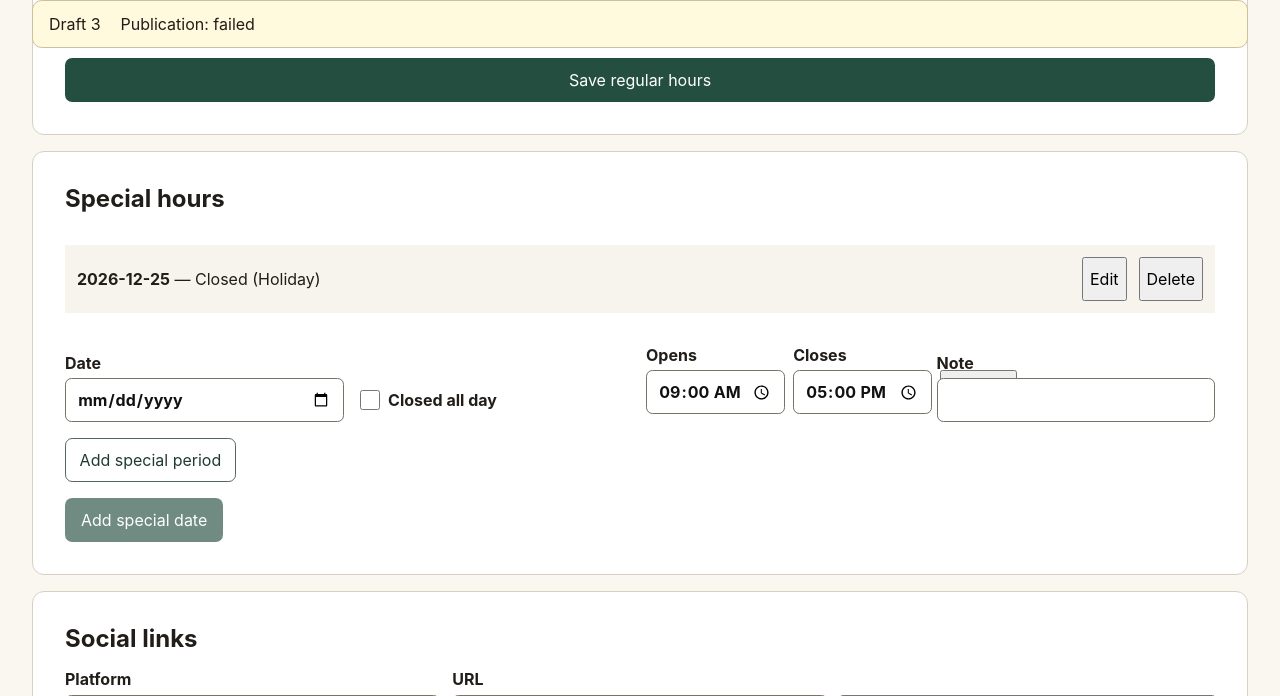
RestaurantEditor › maps special-hour errors inline and focuses the interval group while preserving values
This screenshot has width=1280, height=696.
(page scrolled)
Step 1. Type "2026-12-31" into the date field labelled "Date" → (204,400), box [65,378,344,422]
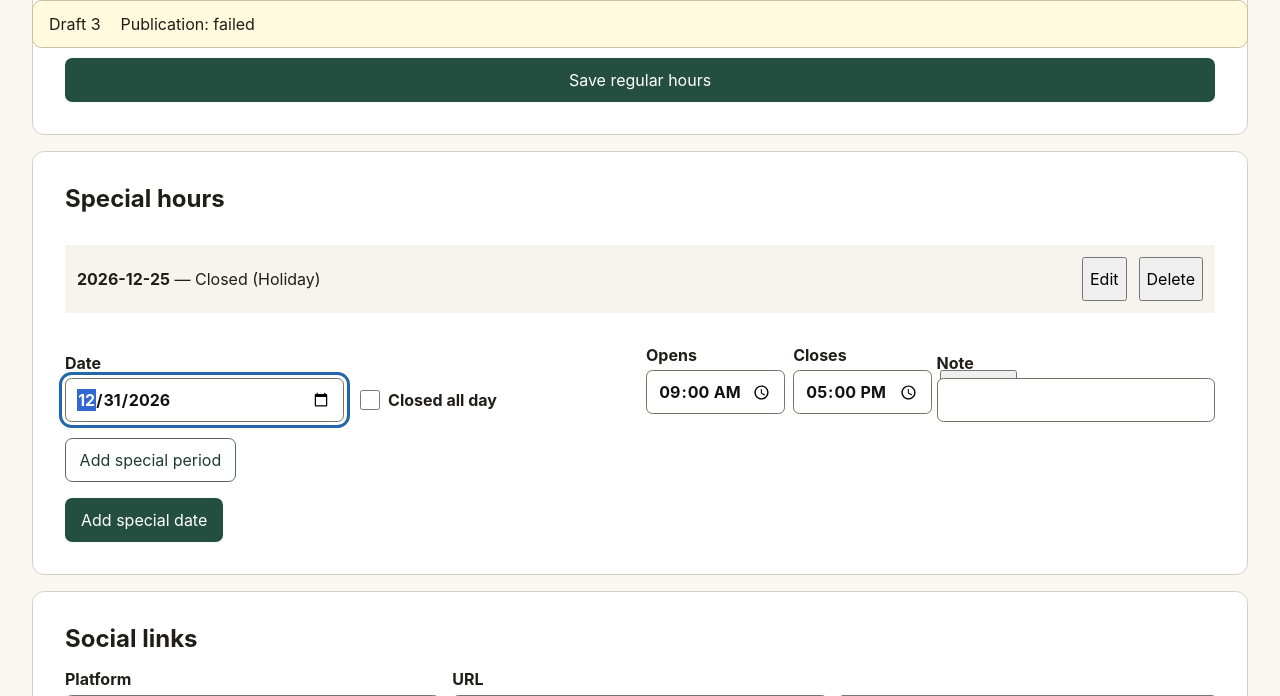
Step 2. Clear the time field labelled "Opens" → (716,392), box [646,370,785,414]
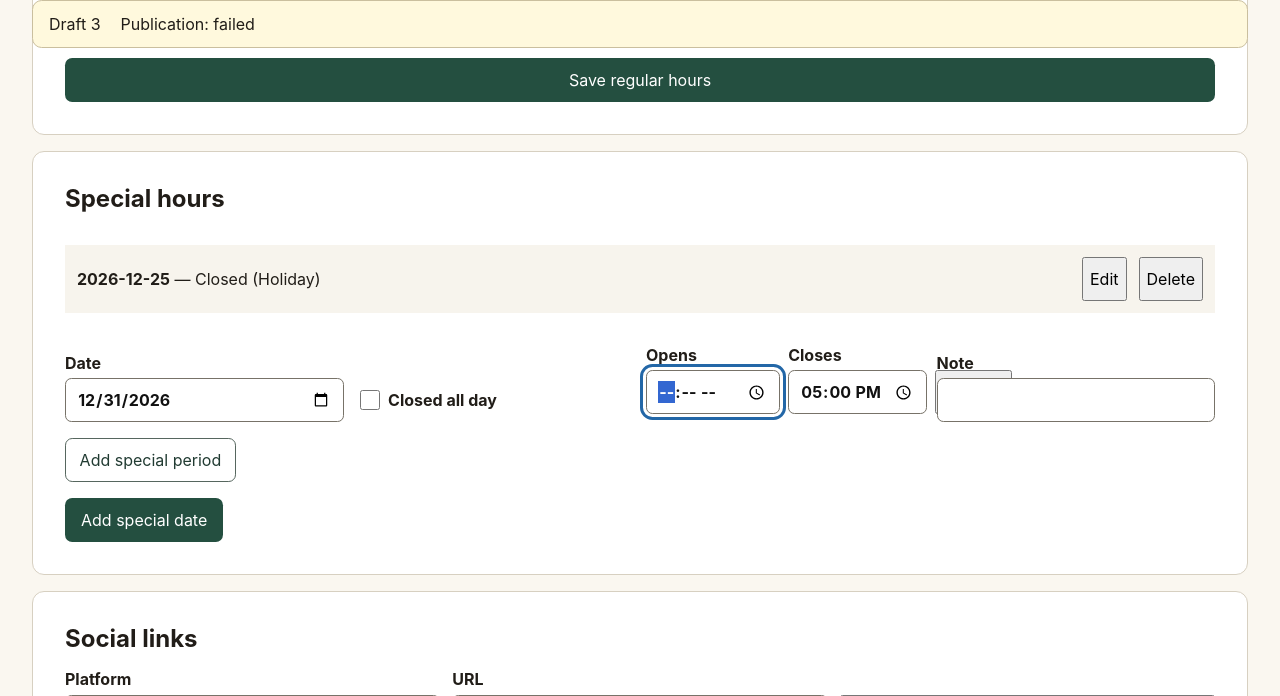
Step 3. Type "11:00" into the time field labelled "Opens" → (713,392), box [646,370,780,414]
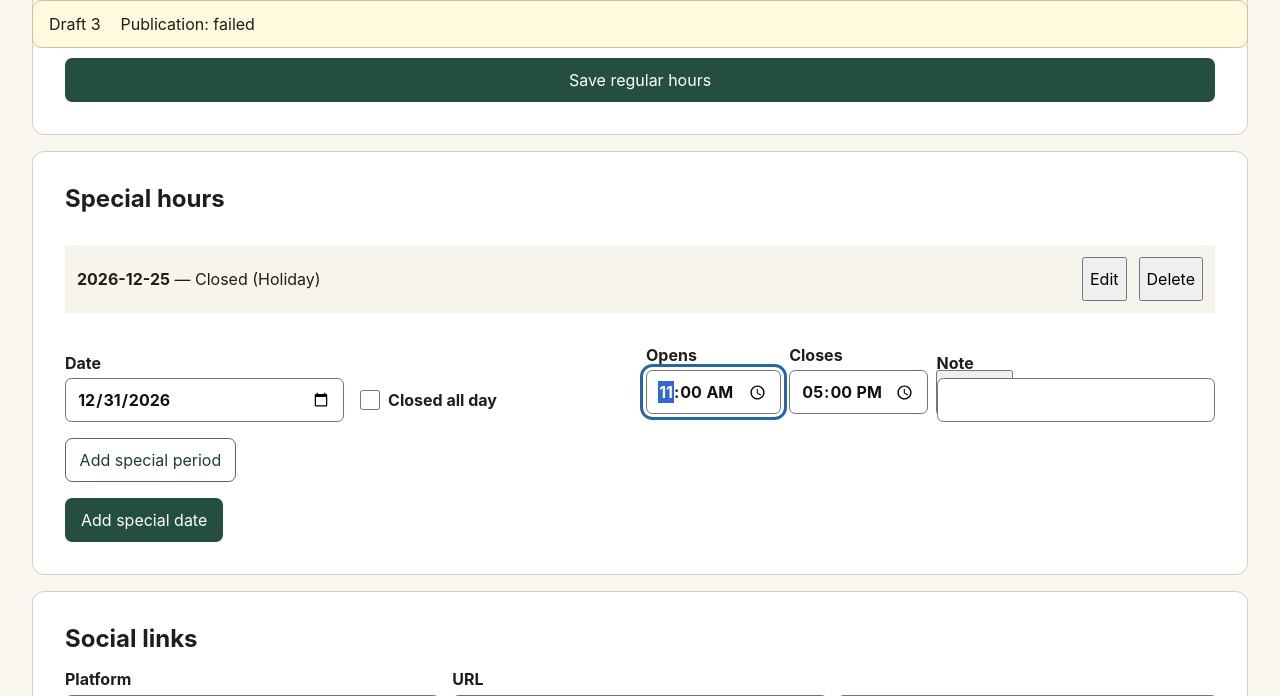
Step 4. Click the button "Add special date" → (144,520), box [65,498,223,542]
(page scrolled)
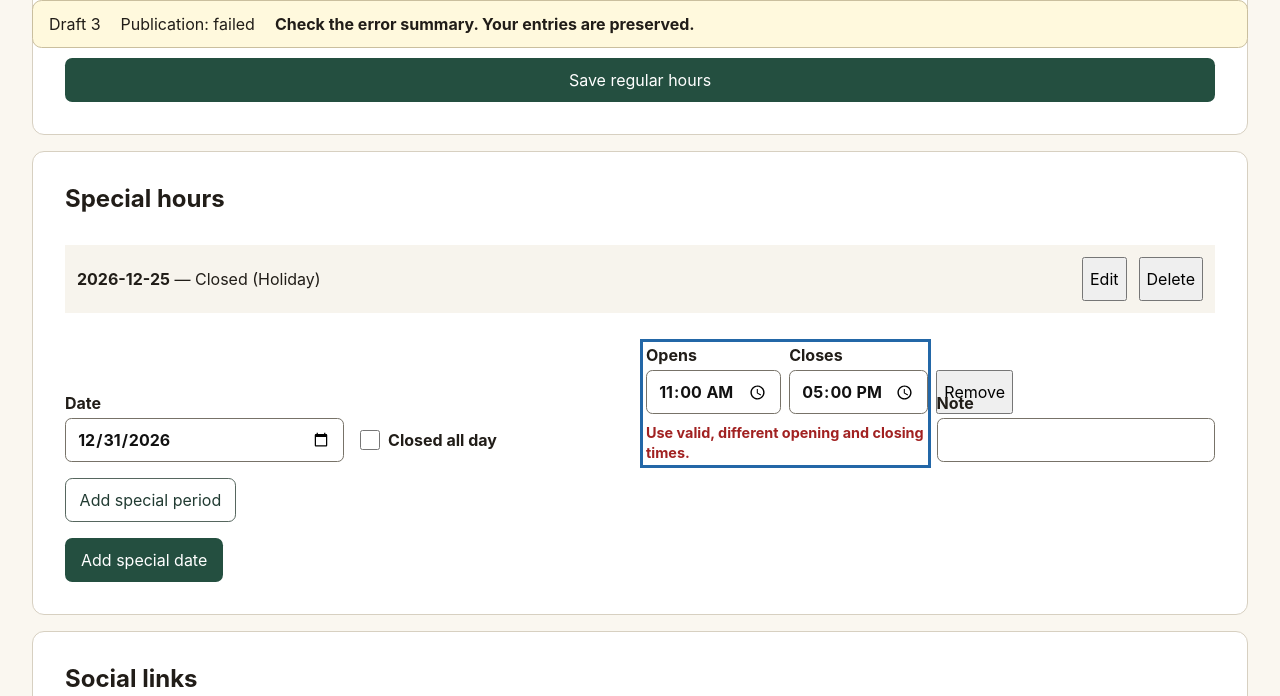
Expected: the text "Use valid, different opening and closing times." is shown, [646,424,924,461]
